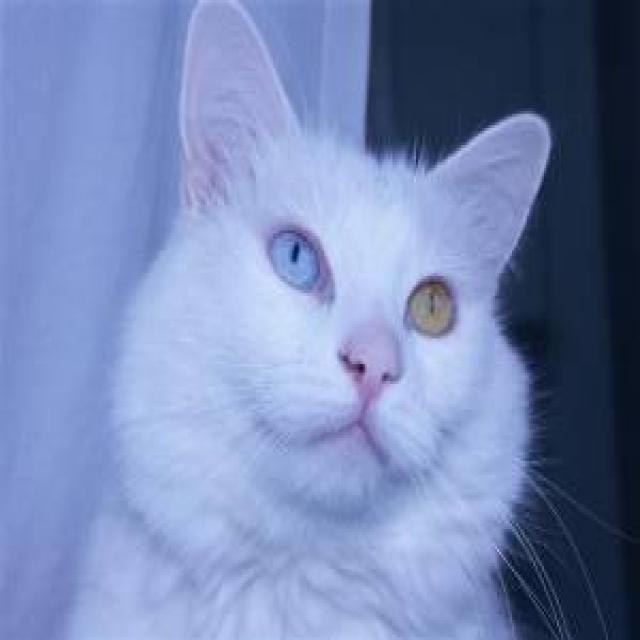Persian: (167, 0, 551, 509)
